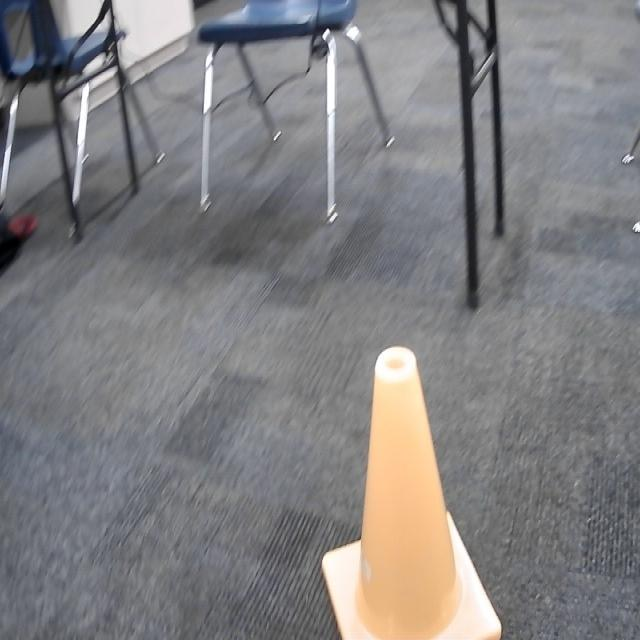cone: (321, 343, 503, 640)
